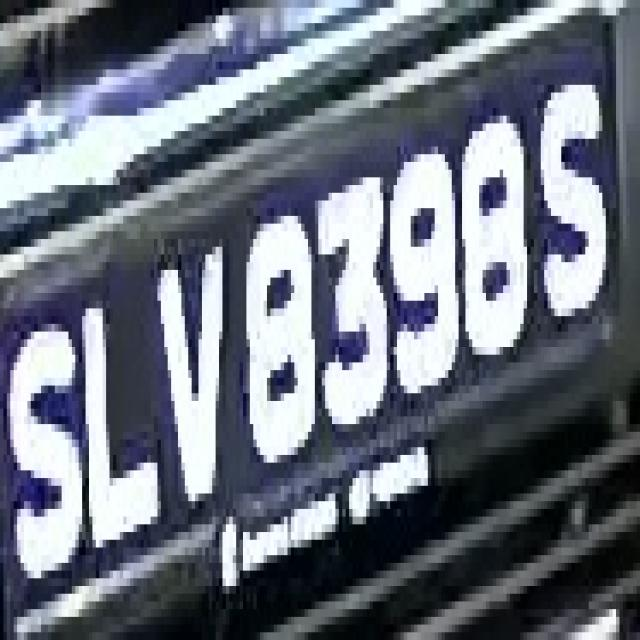3: (301, 177, 390, 455)
8: (240, 216, 322, 509), (452, 116, 534, 393)
9: (383, 123, 469, 440)
L: (75, 270, 168, 540)
S: (527, 69, 613, 347), (17, 293, 86, 601)
V: (151, 246, 243, 516)
